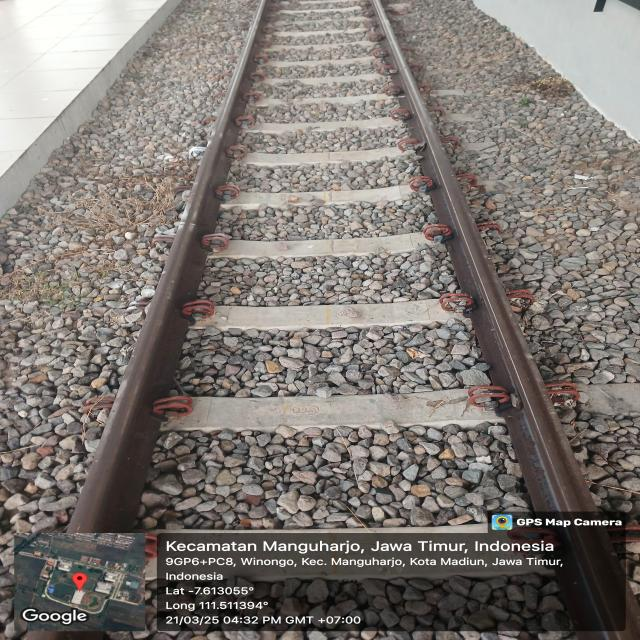rail-detection: (370, 0, 626, 640), (70, 0, 272, 533)
